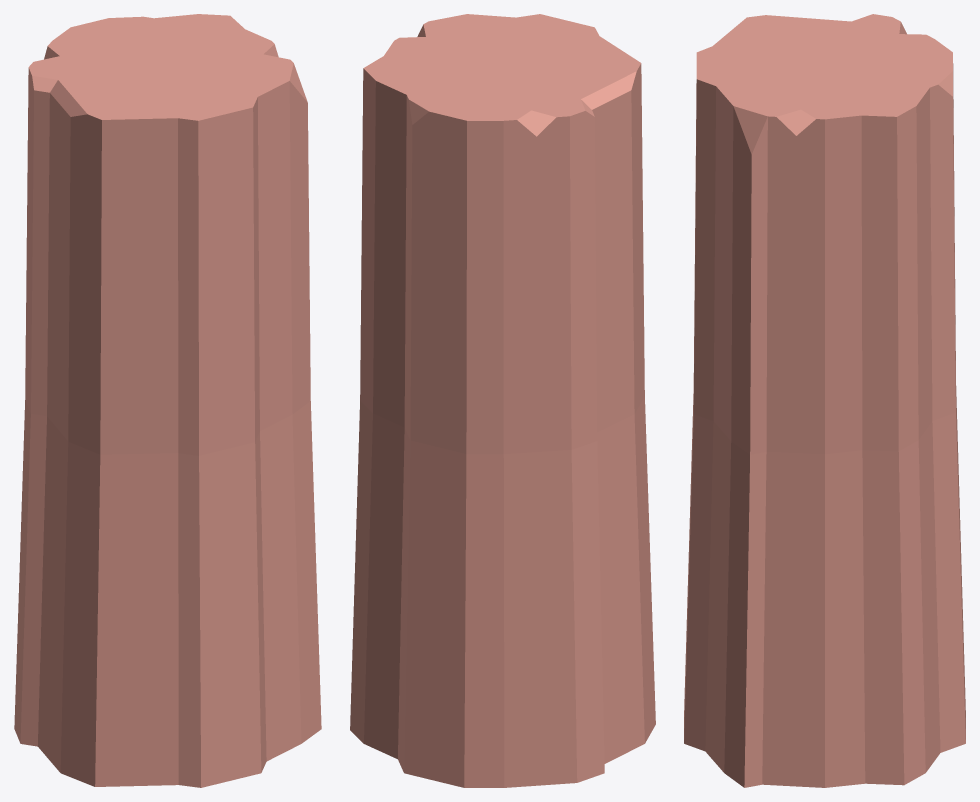
The model's file is SuperGrid_Hexagon_022_Vlad.fbx.
3 renders of one model, left to right at view 1: azimuth 30°, elevation 25°; view 2: azimuth 150°, elevation 25°; view 3: azimuth 270°, elevation 25°, orthographic.
Parts seen in each view (by area): view 1: SuperGrid_Hexagon.022; view 2: SuperGrid_Hexagon.022; view 3: SuperGrid_Hexagon.022.
Boxes of the visible parts, x1,y1,x2,y2 form: SuperGrid_Hexagon.022: [14, 14, 321, 787]; SuperGrid_Hexagon.022: [350, 14, 655, 787]; SuperGrid_Hexagon.022: [684, 14, 965, 787].
Bounding box in the file's own units: 19053 × 50000 × 19250.
